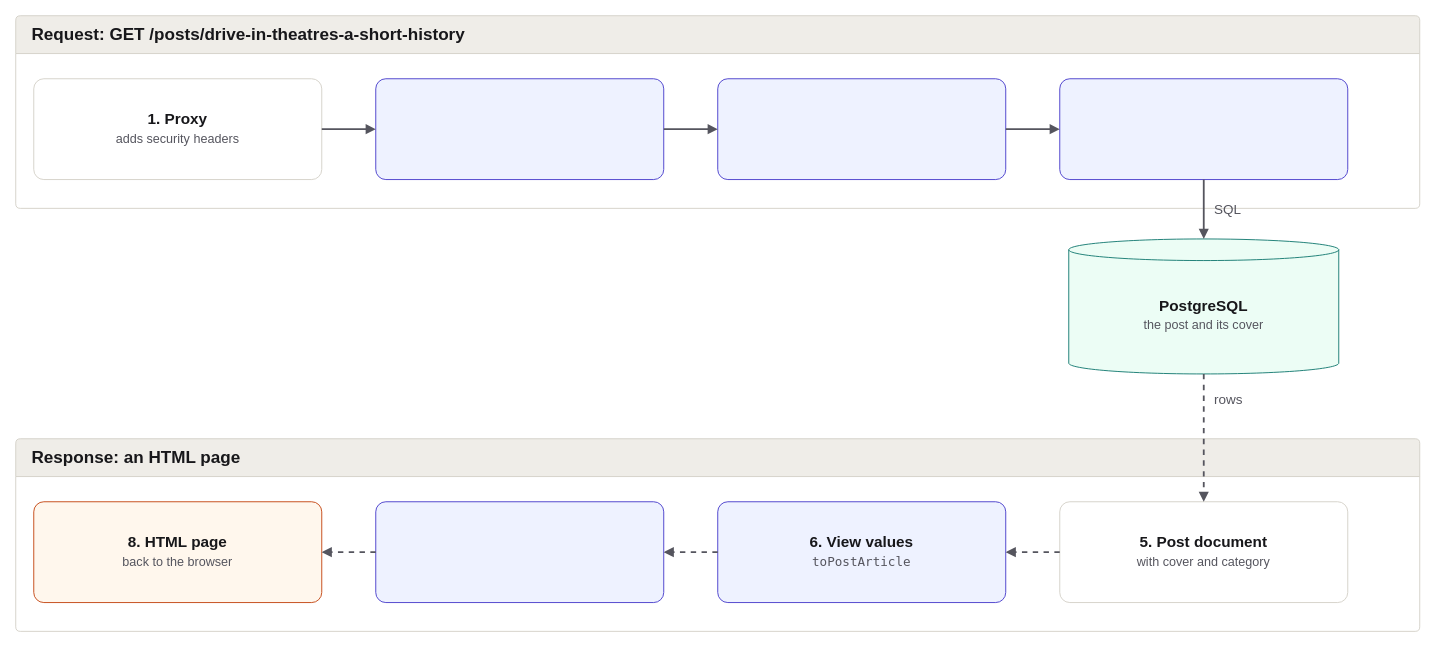
The diagram is 1436 pixels wide and 647 high, and some of its shapes have lost their labels. The shapes that lost their labels are listed below. From the top down, each one's centre as x and y in pixels, then its label:
(519,129): 2. Page posts/[slug]/page.tsx
(861,129): 3. Query findPublishedPost
(1203,129): 4. Local API access rule: published only
(519,552): 7. Components ArticleHeader, ArticleBody
